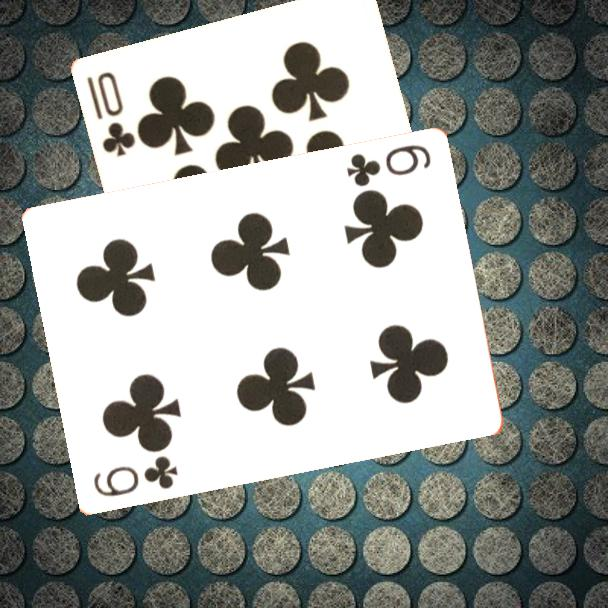c06: (343, 141, 434, 190), (89, 453, 181, 500)
c10: (83, 68, 139, 160)
